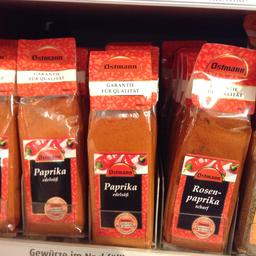spices: (164, 40, 254, 250), (86, 46, 156, 250), (16, 36, 85, 238)
